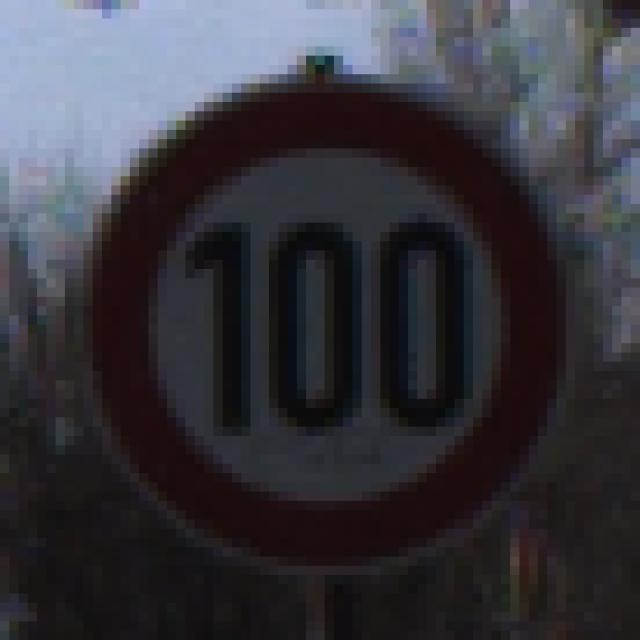speed limit 100: (75, 53, 574, 571)
